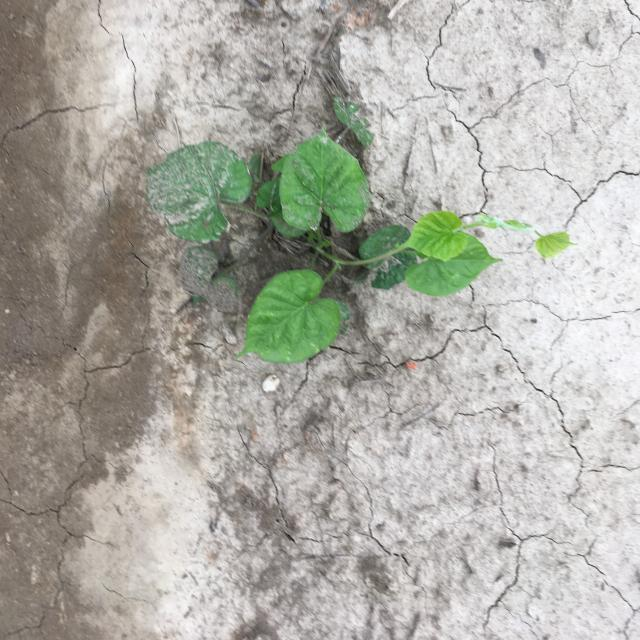MorningGlory: (144, 95, 578, 364)
